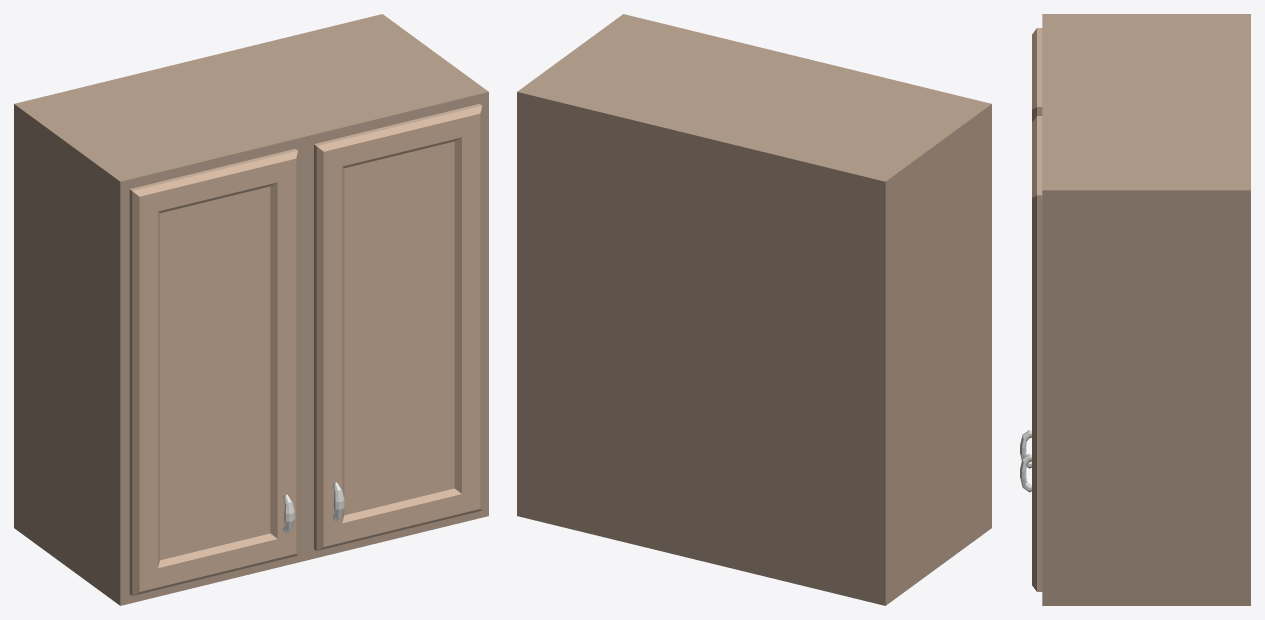
File: Structure_Kitchen_Cabinet_Wall_Full.fbx
3 views of the same model, side by side, from view 1: azimuth 30°, elevation 25°; view 2: azimuth 150°, elevation 25°; view 3: azimuth 270°, elevation 25° (orthographic). The views are drawn at different scales.
Parts seen in each view (by area): view 1: object2.052, object1.090, object3.041; view 2: object2.052; view 3: object2.052, object1.090, object3.041.
Part boxes in pixels (box(x1,y1,x2,y2)): object2.052: box(14, 14, 488, 605); object1.090: box(314, 103, 482, 550); object3.041: box(129, 148, 297, 595); object2.052: box(517, 14, 991, 605); object2.052: box(1042, 14, 1250, 605); object1.090: box(1032, 116, 1042, 591); object3.041: box(1032, 28, 1042, 122).
Bounding box in the file's own units: 100 × 110 × 55.31.
